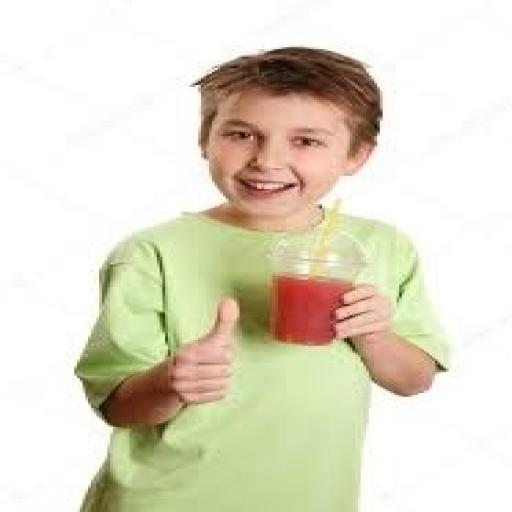drinking: (168, 53, 501, 512)
